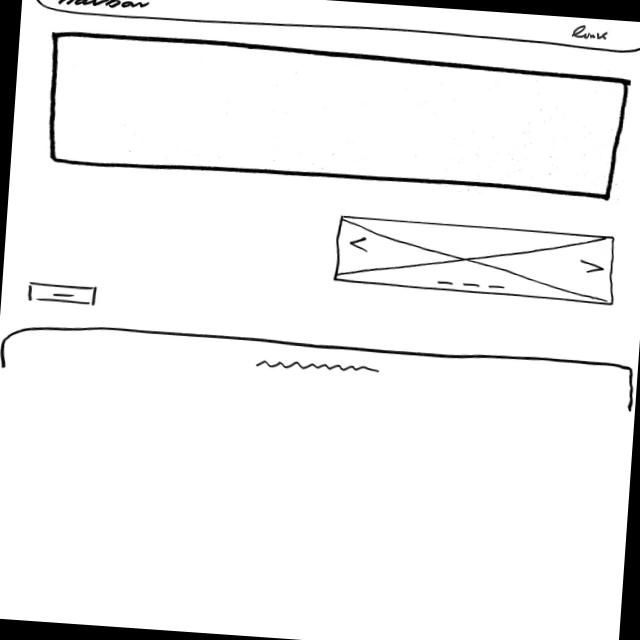container: (43, 31, 633, 202), (29, 1, 640, 56)
icon-button: (27, 281, 101, 309)
image: (329, 214, 620, 308)
label: (53, 1, 153, 11), (572, 25, 613, 42)
text: (256, 357, 384, 379)
